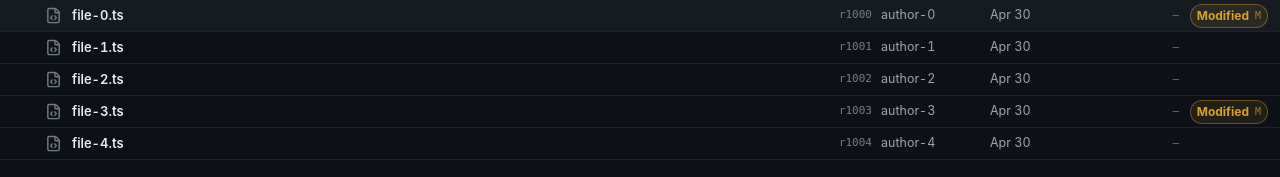
Test: virtualized list stability › renders the context menu in a body portal for transformed rows
Right-click the text "file-2.ts".
right_click(640, 80)  # box top-left (0, 64), bottom-right (1279, 96)
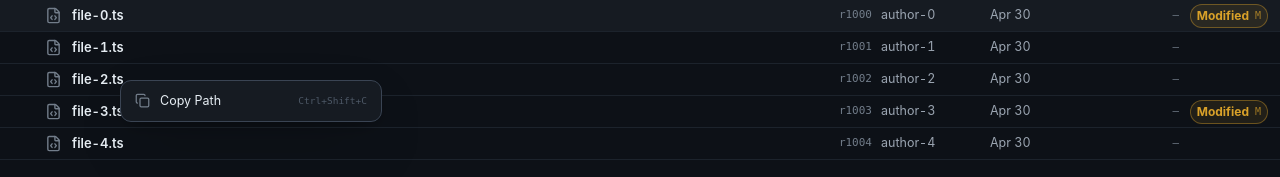
expect the element "Copy Path Ctrl+Shift+C" is shown: met, box top-left (120, 80), bottom-right (382, 122)
